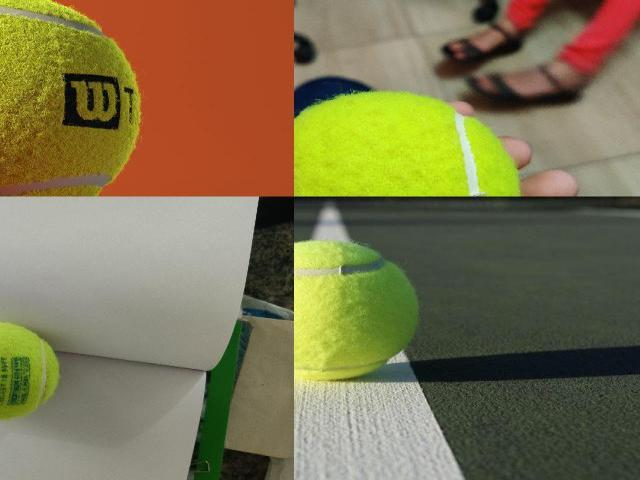tennis-ball: (0, 0, 141, 196), (294, 93, 519, 196), (294, 240, 420, 378), (0, 320, 60, 421)
